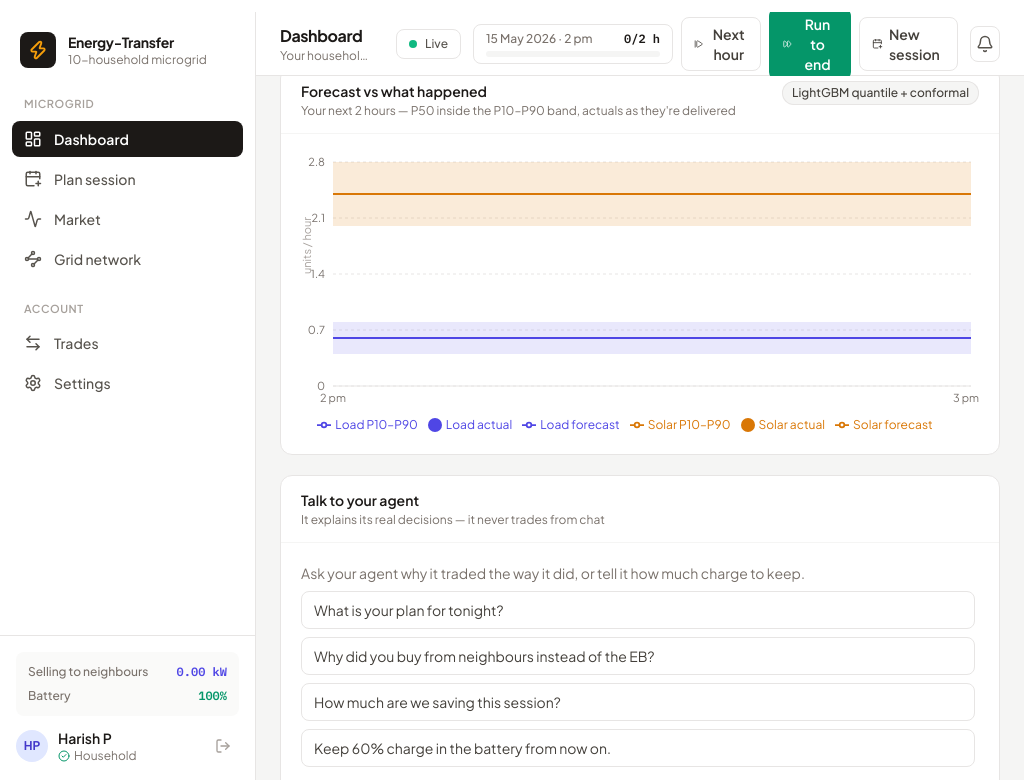
it: navigation › opens the grid network and settings
The width and height of the screenshot is (1024, 780).
(page scrolled)
Expected: the heading "Dashboard" is shown, [280,24,372,48]
Click the link "Grid network". click: (82, 258)
box: [24,250,141,268]
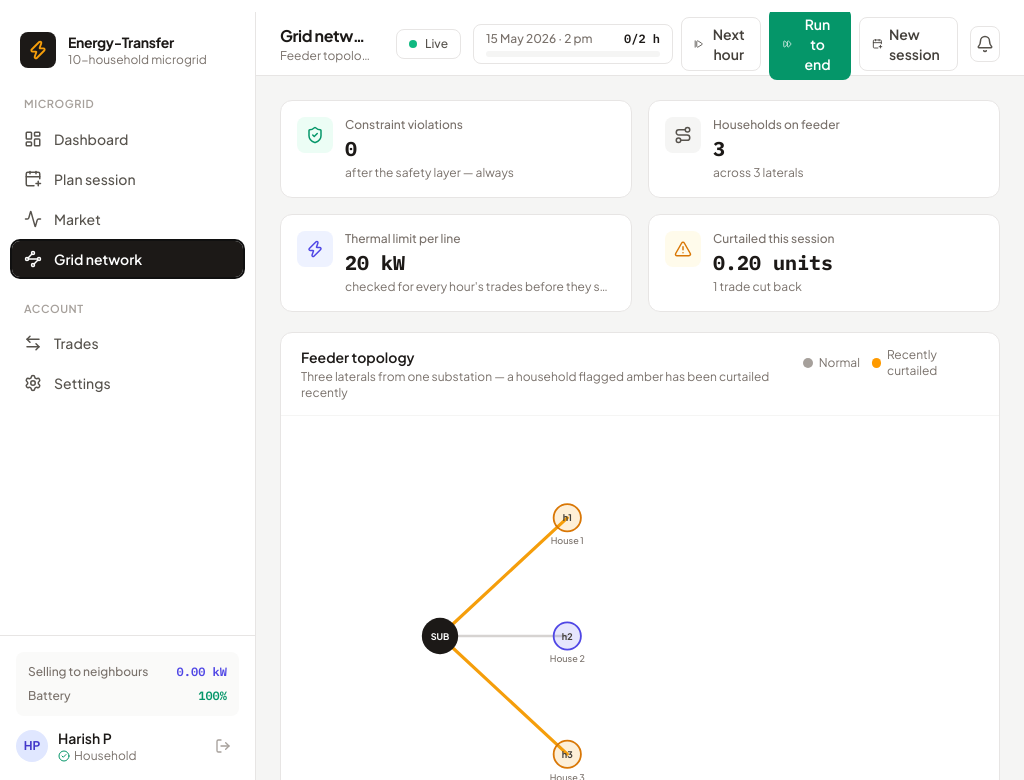
Expected: the heading "Feeder topology" is shown, [301,348,414,366]
Click the link "Settings". click: (67, 383)
box: [24,374,110,392]
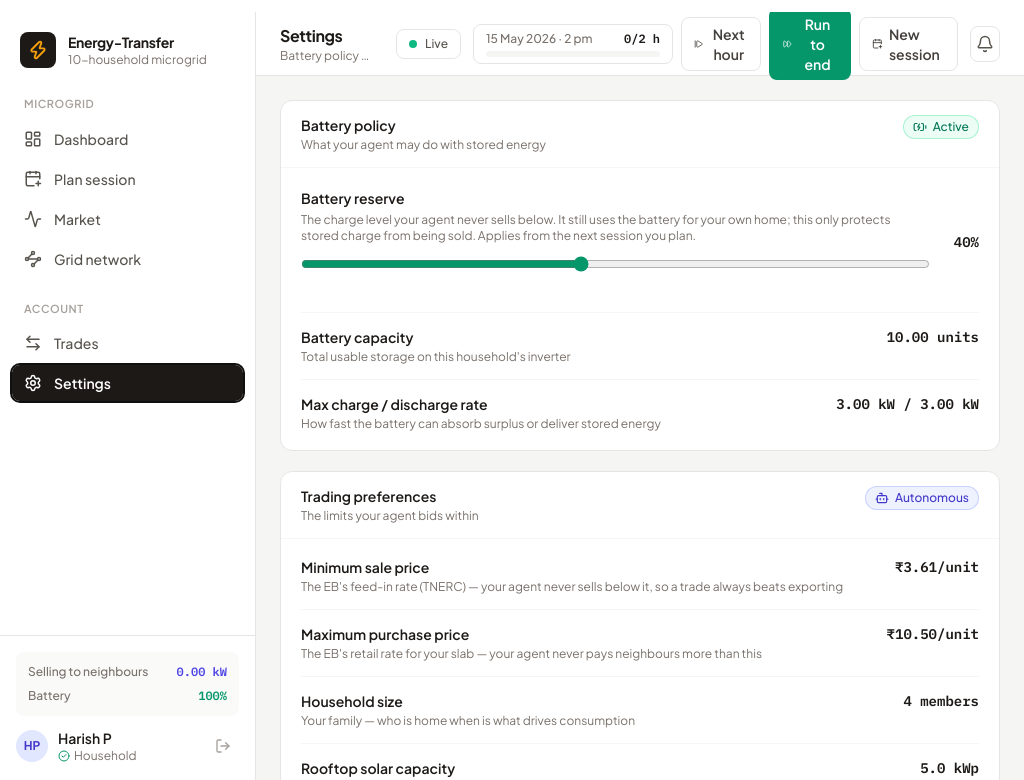
Expected: the text "Battery reserve" is shown, [301,189,404,207]
